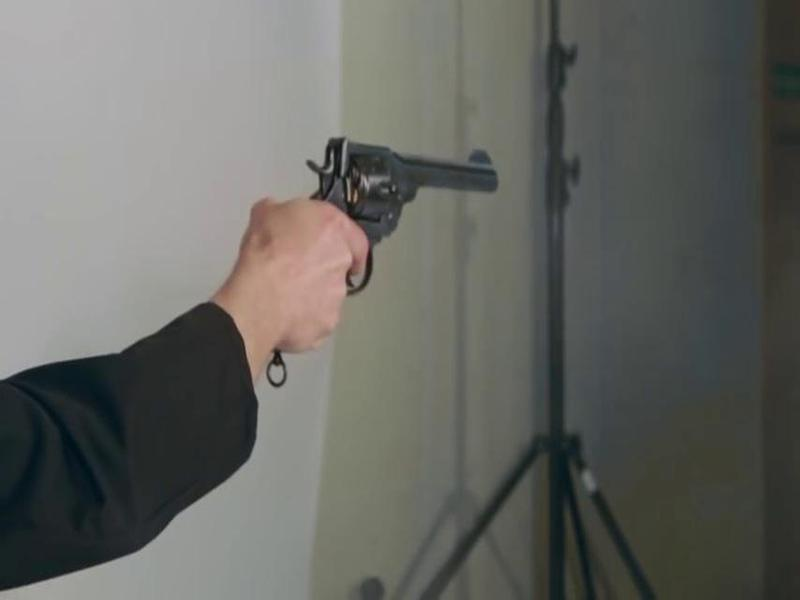Revolver: (287, 128, 523, 334)
